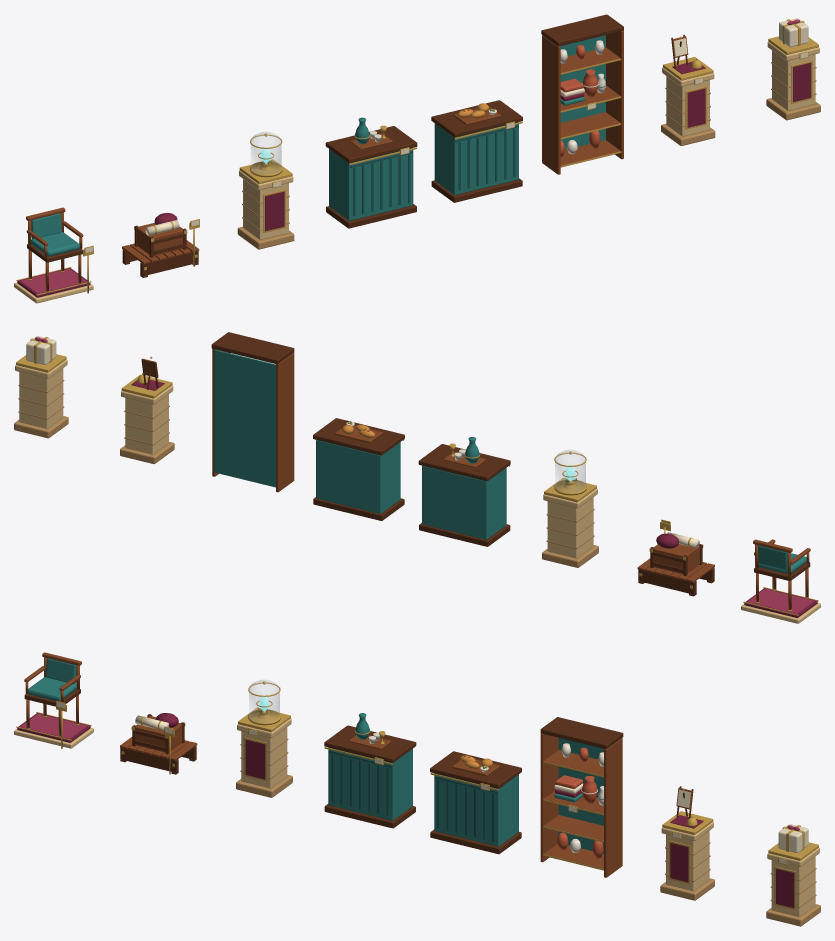
File: product_kit.glb
3 views of the same model, one above another, from view 1: azimuth 30°, elevation 25°; view 2: azimuth 150°, elevation 25°; view 3: azimuth 330°, elevation 25° (orthographic).
Parts seen in each view (by area): view 1: display.merch.fixture, display.drink.fixture, display.food.fixture, display.digital.fixture, display.service.fixture, display.generic.fixture, display.seat.product, display.seat.fixture, display.bundle.product, display.bundle.fixture, display.merch.product, display.generic.product (+3 smaller); view 2: display.merch.fixture, display.drink.fixture, display.food.fixture, display.digital.fixture, display.service.fixture, display.generic.fixture, display.seat.product, display.bundle.product, display.seat.fixture, display.bundle.fixture, display.generic.product, display.drink.product (+2 smaller); view 3: display.merch.fixture, display.drink.fixture, display.food.fixture, display.digital.fixture, display.service.fixture, display.generic.fixture, display.seat.product, display.seat.fixture, display.bundle.product, display.bundle.fixture, display.merch.product, display.generic.product (+3 smaller).
Boxes of the visible parts, x1=… form: display.merch.fixture: x1=541, y1=14, x2=623, y2=174; display.drink.fixture: x1=325, y1=126, x2=417, y2=228; display.food.fixture: x1=431, y1=100, x2=522, y2=202; display.digital.fixture: x1=237, y1=132, x2=294, y2=249; display.service.fixture: x1=661, y1=57, x2=715, y2=145; display.generic.fixture: x1=766, y1=36, x2=820, y2=120; display.seat.product: x1=26, y1=207, x2=83, y2=293; display.seat.fixture: x1=14, y1=247, x2=93, y2=303; display.bundle.product: x1=134, y1=213, x2=187, y2=257; display.bundle.fixture: x1=122, y1=223, x2=199, y2=277; display.merch.product: x1=560, y1=69, x2=606, y2=105; display.generic.product: x1=779, y1=18, x2=808, y2=47; display.merch.fixture: x1=211, y1=332, x2=294, y2=492; display.drink.fixture: x1=418, y1=444, x2=510, y2=546; display.food.fixture: x1=313, y1=418, x2=404, y2=520; display.digital.fixture: x1=542, y1=450, x2=598, y2=567; display.service.fixture: x1=120, y1=374, x2=174, y2=463; display.generic.fixture: x1=14, y1=354, x2=68, y2=438; display.seat.product: x1=753, y1=539, x2=810, y2=611; display.bundle.product: x1=649, y1=532, x2=703, y2=576; display.seat.fixture: x1=741, y1=577, x2=820, y2=623; display.bundle.fixture: x1=637, y1=522, x2=714, y2=596; display.generic.product: x1=26, y1=336, x2=56, y2=364; display.drink.product: x1=443, y1=437, x2=485, y2=467; display.merch.fixture: x1=540, y1=717, x2=623, y2=877; display.drink.fixture: x1=324, y1=725, x2=416, y2=828; display.food.fixture: x1=430, y1=751, x2=521, y2=854; display.digital.fixture: x1=236, y1=680, x2=292, y2=797; display.service.fixture: x1=660, y1=811, x2=714, y2=900; display.generic.fixture: x1=766, y1=842, x2=820, y2=926; display.seat.product: x1=24, y1=652, x2=81, y2=738; display.seat.fixture: x1=14, y1=703, x2=93, y2=748; display.bundle.product: x1=131, y1=713, x2=185, y2=754; display.bundle.fixture: x1=120, y1=728, x2=197, y2=774; display.merch.product: x1=554, y1=775, x2=603, y2=805; display.generic.product: x1=778, y1=824, x2=808, y2=852.
Size of the model in its own units: 11.16 by 1.8 by 0.637.
3 materials, 1 textured.
